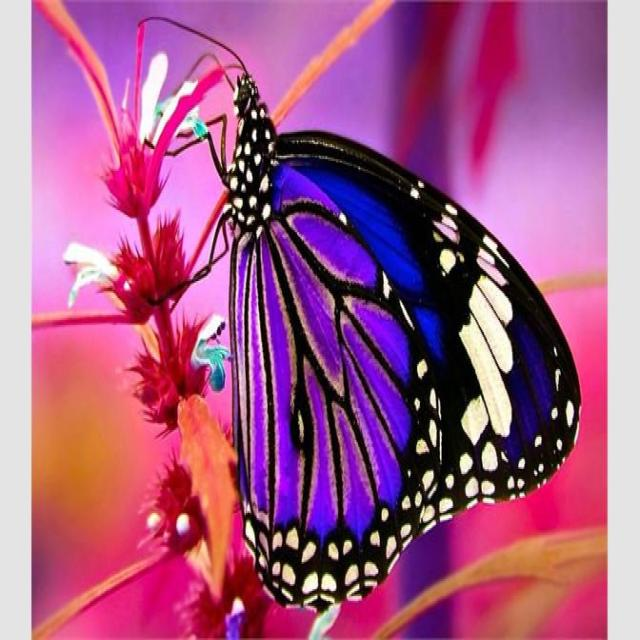butterfly: (204, 86, 526, 608)
